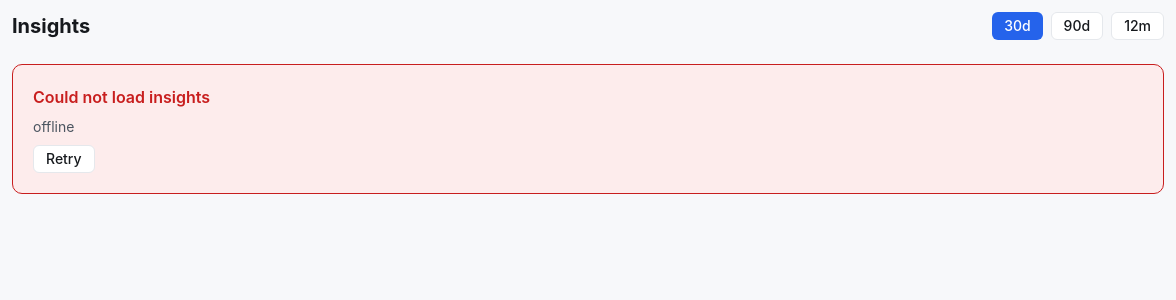
Test: Insights page (T5.3) › shows an error state with retry
Expected: the heading "Could not load insights" is shown, left=33, top=87, right=210, bottom=107
Click the button "Retry" at (64, 159), box left=33, top=145, right=95, bottom=173
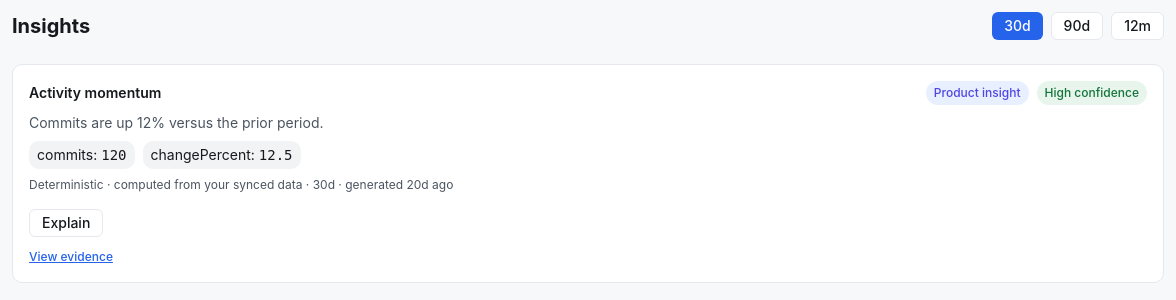
Result: the heading "Activity momentum" is shown at left=29, top=84, right=161, bottom=101
